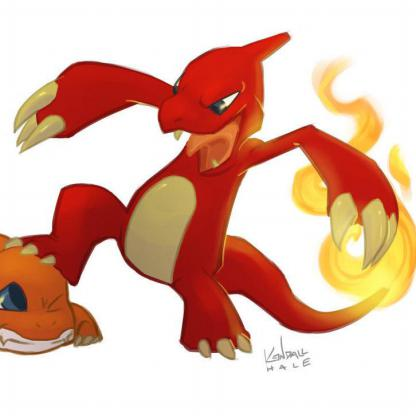Charmeleon: (29, 1, 416, 413)
